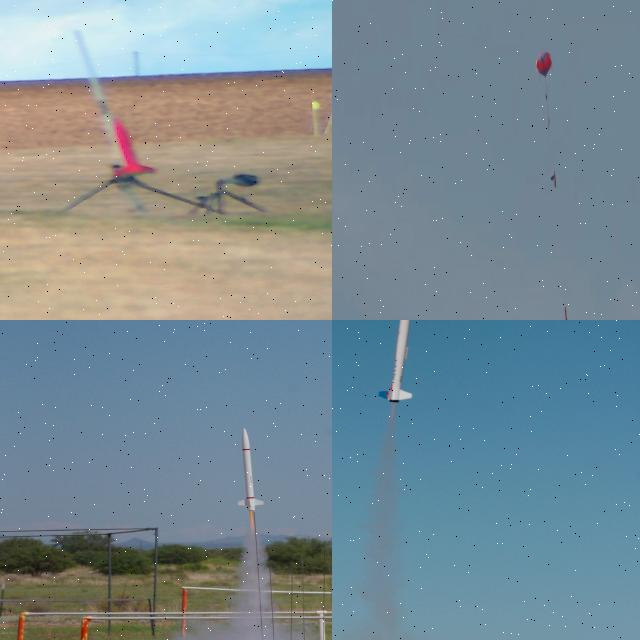Rocket: (378, 320, 414, 403), (234, 426, 268, 513), (111, 118, 157, 178), (565, 307, 568, 320)
